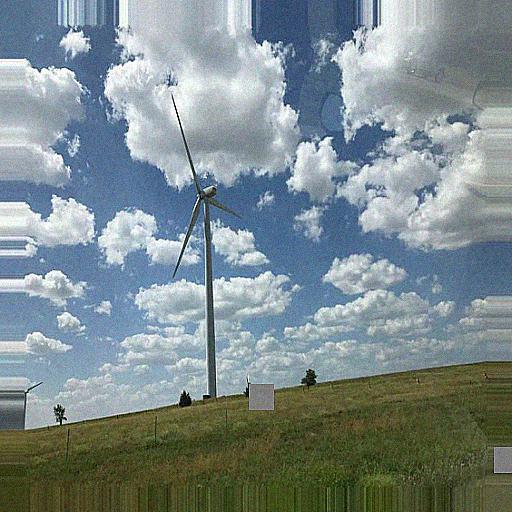wind turbine: (171, 93, 241, 396)
